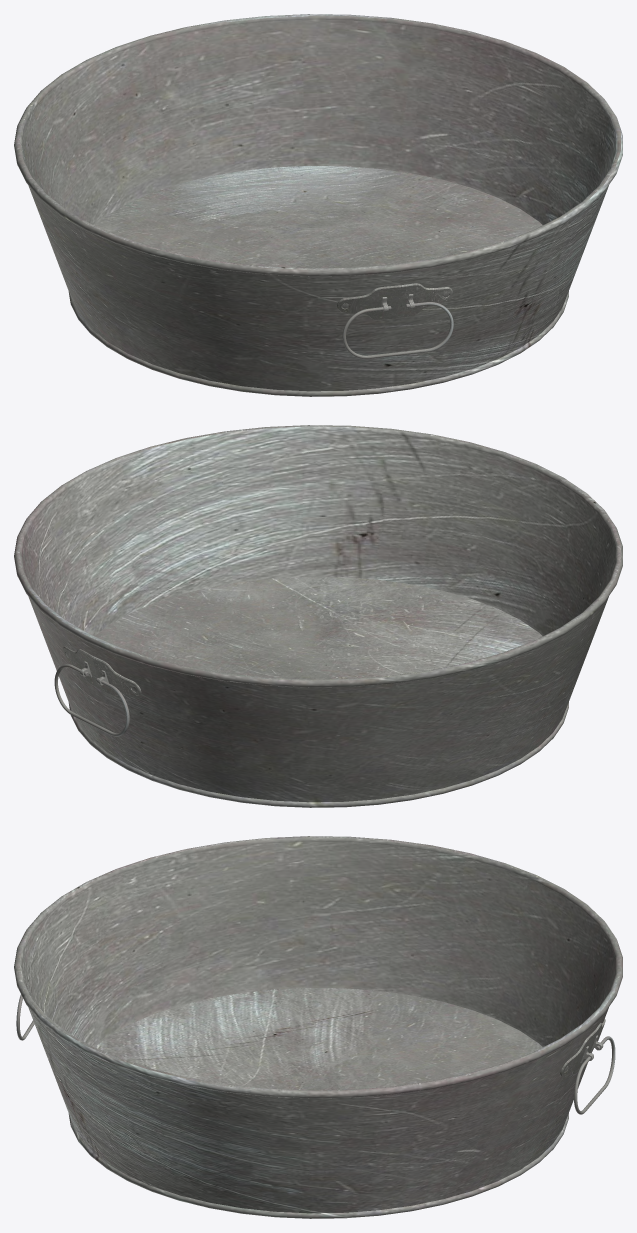
The model's file is sinken.FBX.
3 renders of one model, top to bottom at view 1: azimuth 30°, elevation 25°; view 2: azimuth 150°, elevation 25°; view 3: azimuth 270°, elevation 25°, orthographic.
Parts seen in each view (by area): view 1: Kauss (plekist9, sang 02; view 2: Kauss (plekist9, sang 01; view 3: Kauss (plekist9, sang 01.
Part boxes in pixels (x1,y1,x2,y2): Kauss (plekist9: [14, 14, 622, 396]; sang 02: [336, 283, 453, 358]; Kauss (plekist9: [14, 425, 622, 807]; sang 01: [54, 646, 141, 736]; Kauss (plekist9: [14, 836, 622, 1218]; sang 01: [560, 1019, 615, 1114].
Bounding box in the file's own units: 39.12 × 10.66 × 39.1.
Materials: 1 (1 with a texture image).
